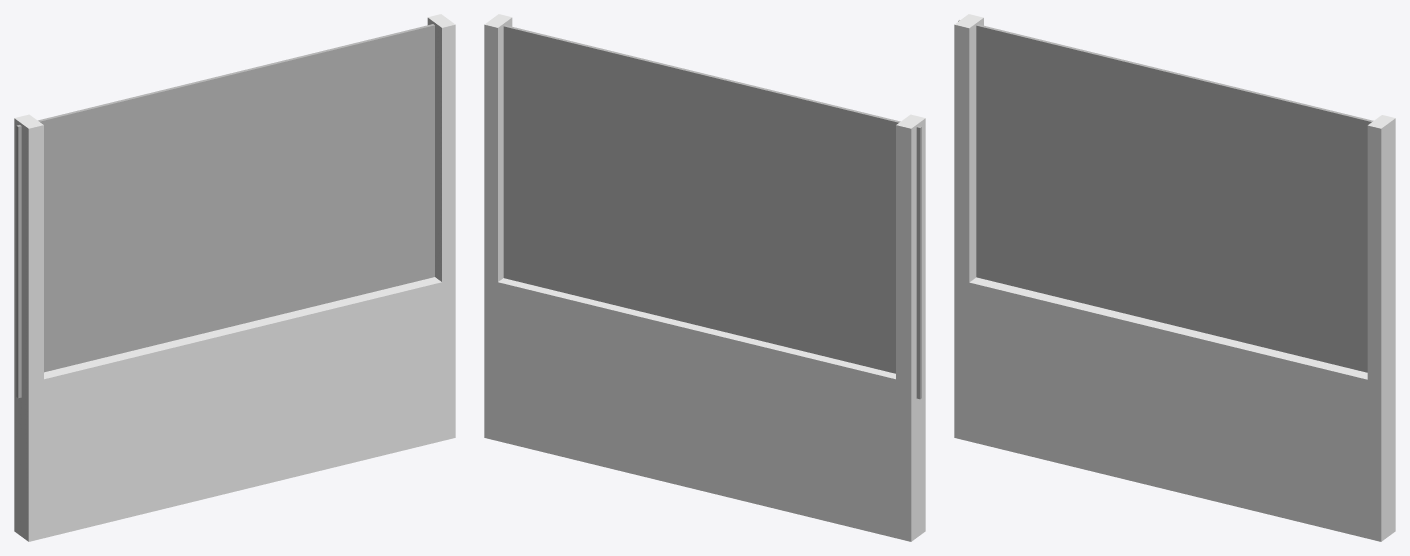
The model's file is fence_1.fbx.
The picture shows the model from 3 angles, left to right: view 1: azimuth 30°, elevation 25°; view 2: azimuth 150°, elevation 25°; view 3: azimuth 330°, elevation 25°; orthographic projection.
Parts seen in each view (by area): view 1: Fence_1; view 2: Fence_1; view 3: Fence_1.
Part boxes in pixels (left/top/right/bottom): Fence_1: left=14, top=14, right=455, bottom=541; Fence_1: left=484, top=14, right=925, bottom=541; Fence_1: left=954, top=14, right=1395, bottom=541.
Bounding box in the file's own units: 3.3 × 3.03 × 0.1927.
